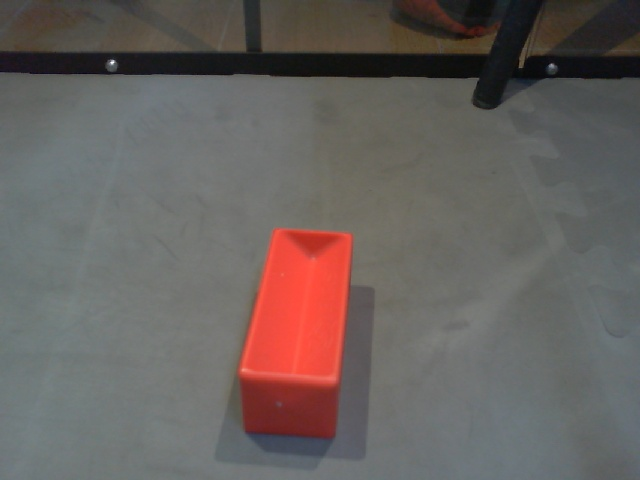RedSample: (235, 226, 356, 441)
